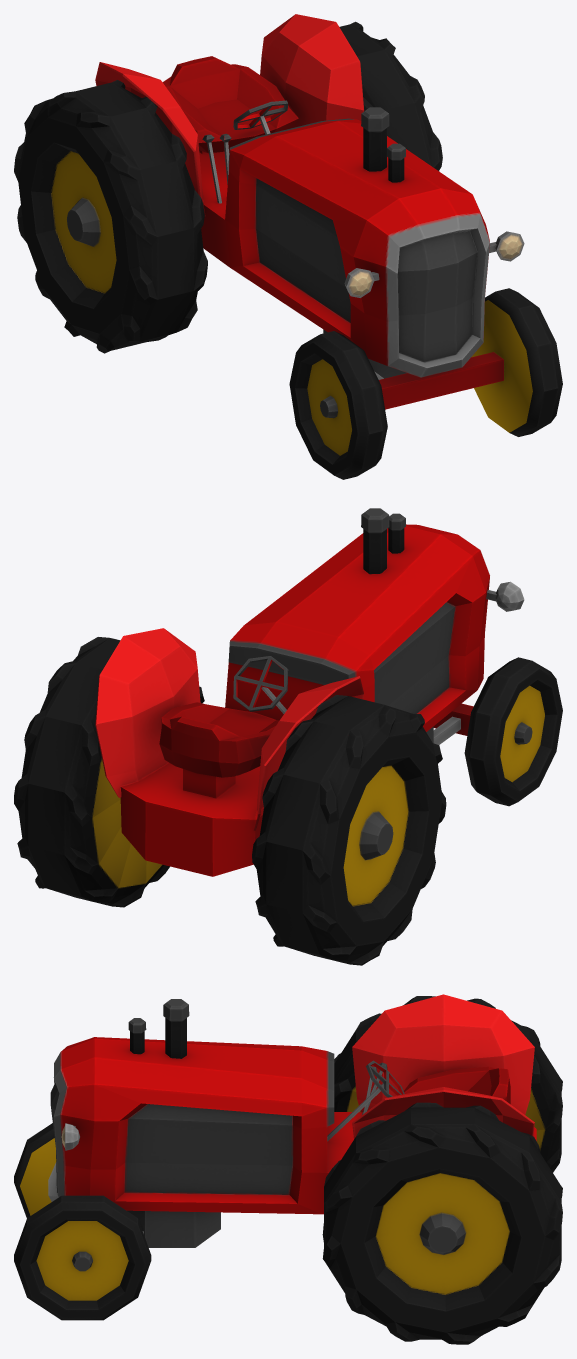
Rendered from tractor.glb.
The picture shows the model from 3 angles, top to bottom: view 1: azimuth 30°, elevation 25°; view 2: azimuth 150°, elevation 25°; view 3: azimuth 270°, elevation 25°; orthographic projection. The views are drawn at different scales.
Parts seen in each view (by area): view 1: Tractor_mesh; view 2: Tractor_mesh; view 3: Tractor_mesh.
Boxes of the visible parts, box(x1,y1,x2,y2) form: Tractor_mesh: box(14, 14, 562, 479); Tractor_mesh: box(14, 508, 562, 965); Tractor_mesh: box(14, 994, 562, 1344).
Size of the model in its own units: 9.35 by 8.62 by 15.49.
Materials: 1 (1 with a texture image).
